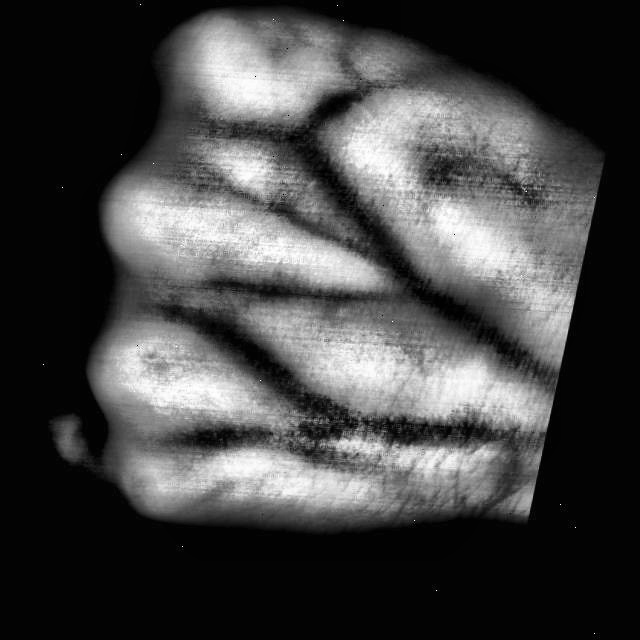Vein: (384, 245, 547, 385)
